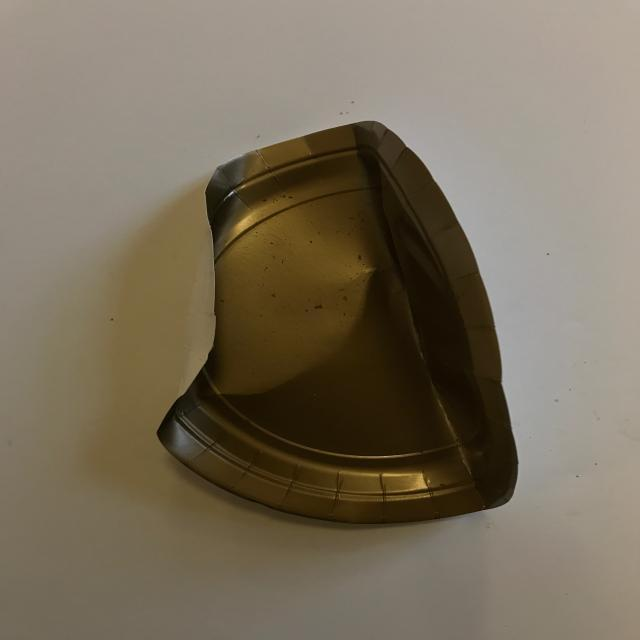paper: (148, 119, 519, 526)
